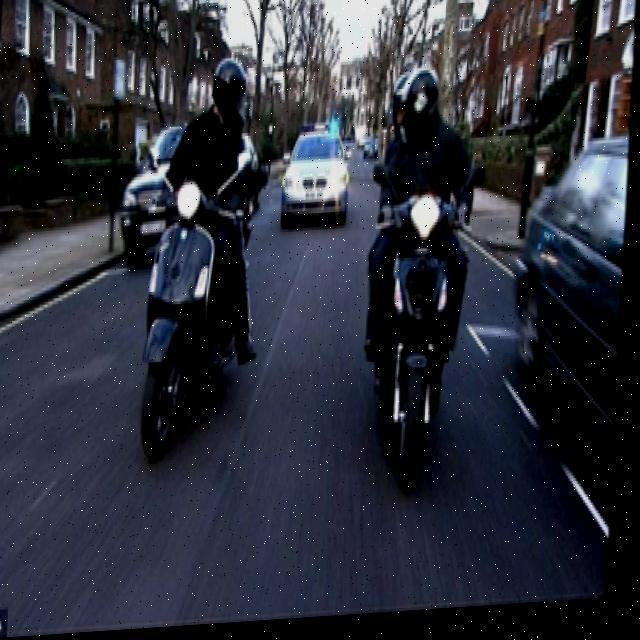Helmet: (394, 56, 446, 152), (208, 44, 250, 130)
